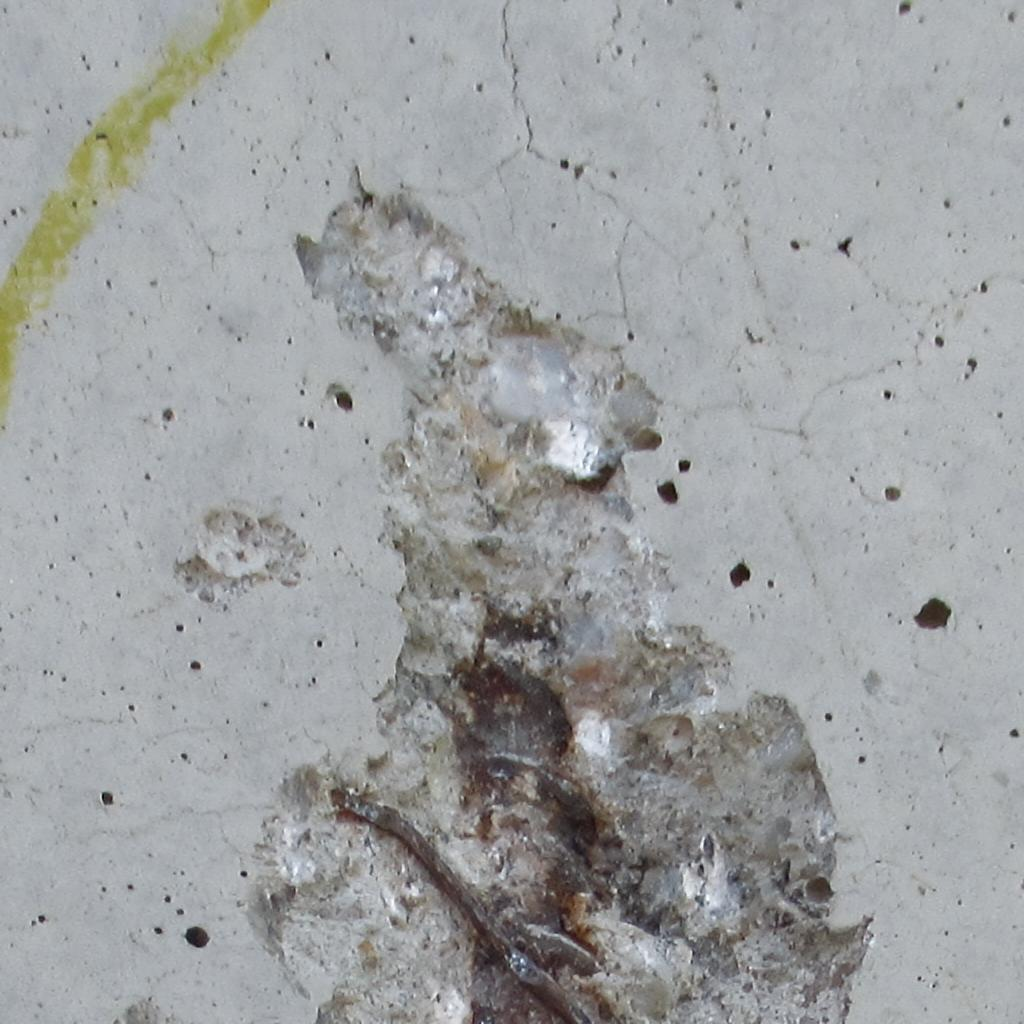exposed_rebar: (332, 788, 594, 1024), (488, 752, 596, 844), (466, 660, 572, 753)
spalling: (260, 194, 868, 1023), (184, 512, 296, 598)
